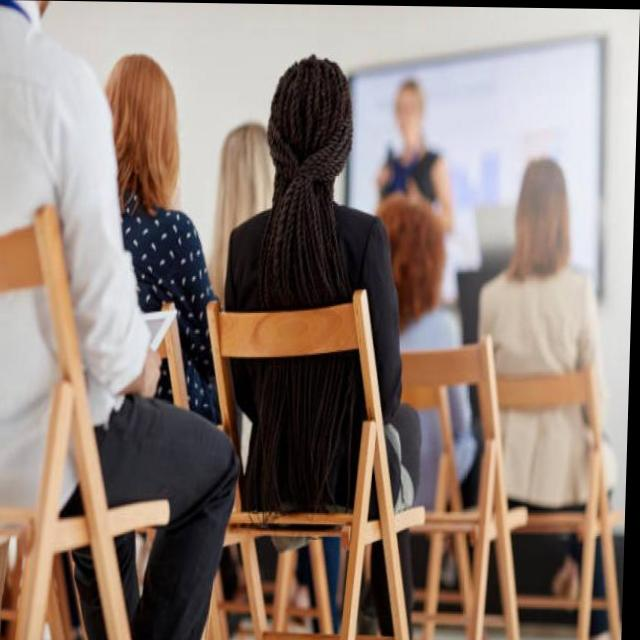no helmet: (261, 35, 362, 219), (87, 34, 194, 203), (368, 184, 461, 330), (500, 148, 583, 291)
